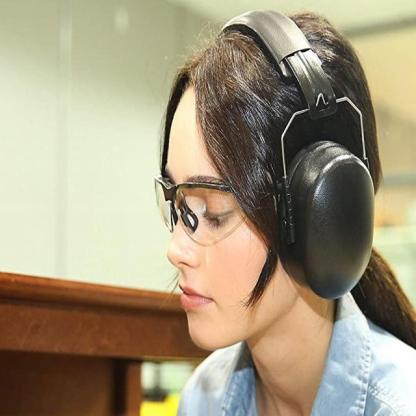oculos: (148, 169, 263, 243)
